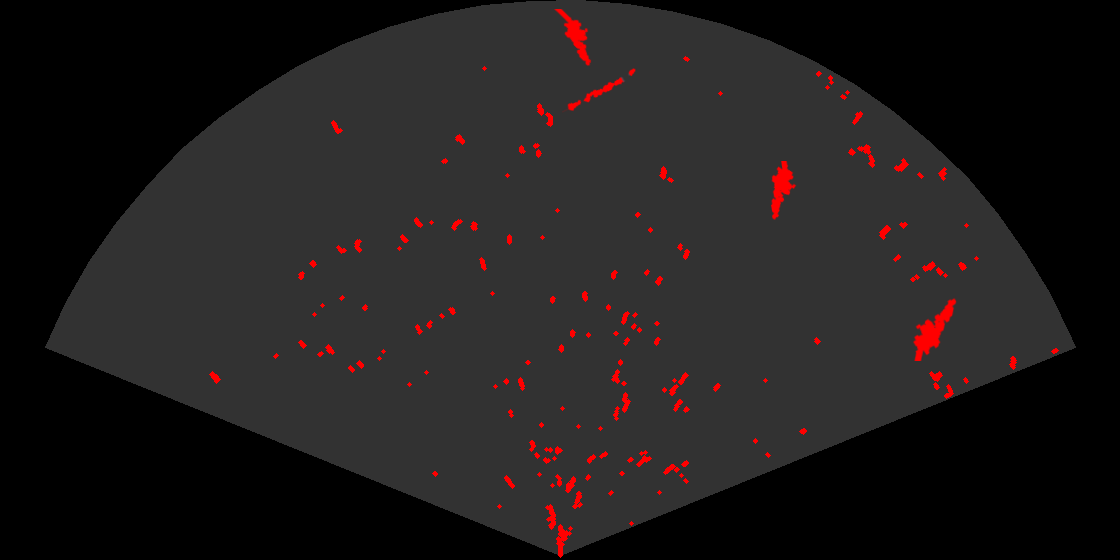chain: (562, 67, 637, 114)
frogman: (911, 296, 958, 361), (552, 9, 593, 68), (769, 161, 798, 220)
